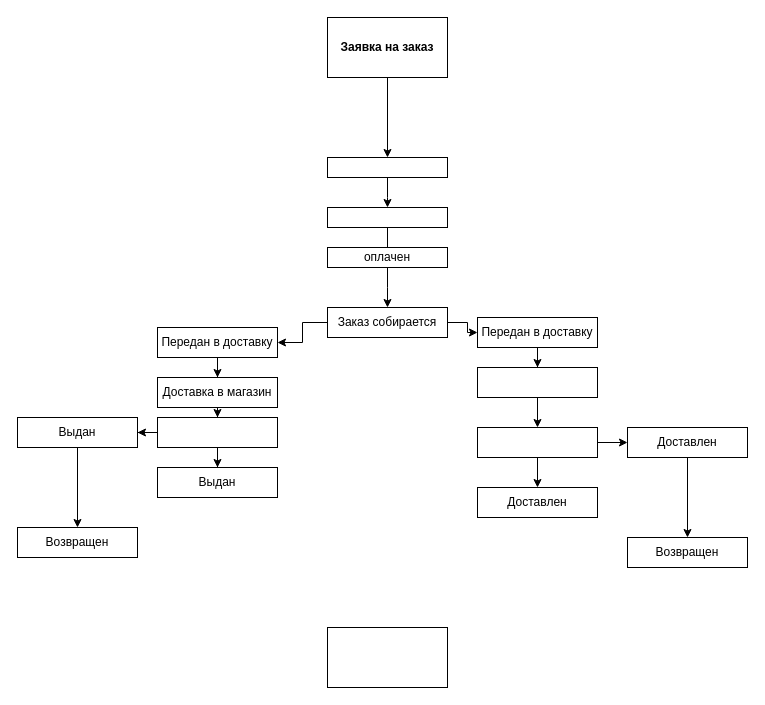
Some shapes in this 765 by 705 pixel diagram are drawn without their labels. The shapes that lost their labels are listed below. From the top down, each one's centre as x and y in pixels, then its label:
At point 387,167: "Оформлен".
At point 387,217: "Ожидает оплаты".
At point 537,382: "Доставка курьером".
At point 217,432: "Ожидает ввыдачи".
At point 537,442: "Ожидает выдачи".
At point 387,657: "Омена заказа может быть на любом этапе".
